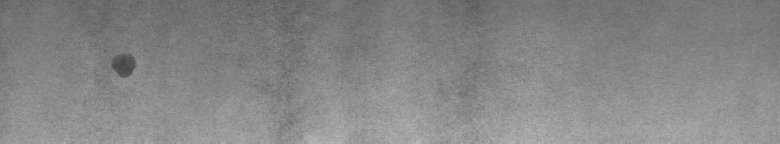fi: (105, 48, 143, 88)
